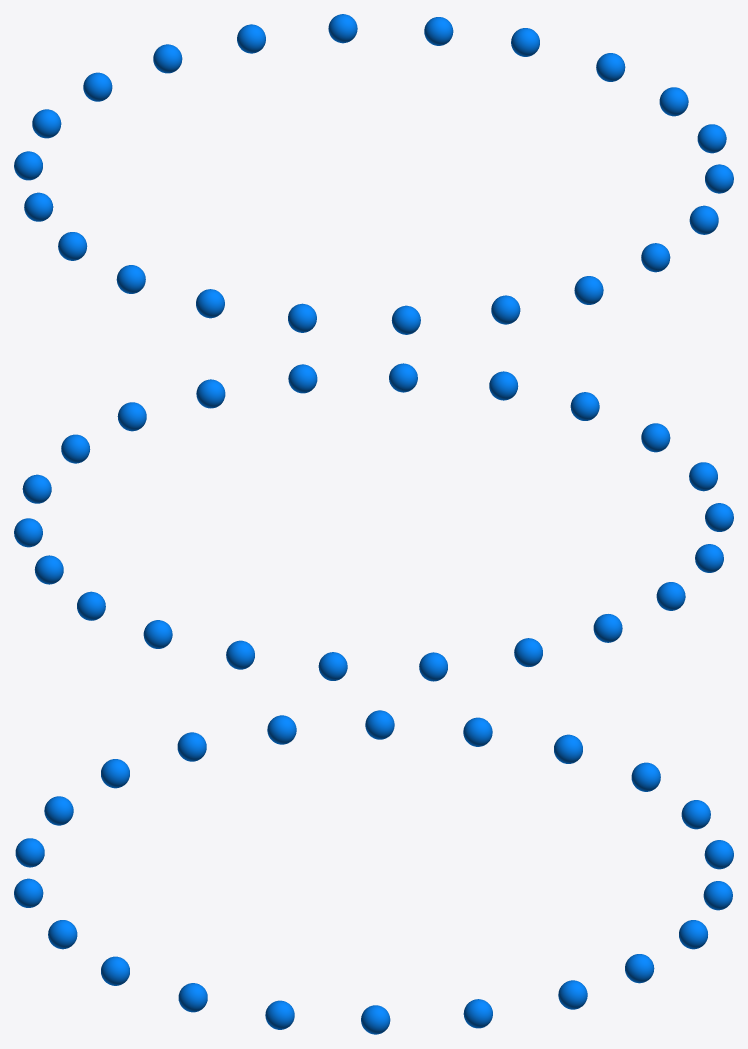
The picture shows the model from 3 angles, top to bottom: view 1: azimuth 30°, elevation 25°; view 2: azimuth 150°, elevation 25°; view 3: azimuth 270°, elevation 25°; orthographic projection.
Parts seen in each view (by area): view 1: Sphere052; view 2: Sphere052; view 3: Sphere052.
Part boxes in pixels (left/top/right/bottom): Sphere052: left=14, top=14, right=733, bottom=334; Sphere052: left=14, top=363, right=733, bottom=681; Sphere052: left=14, top=710, right=733, bottom=1034.
Bounding box in the file's own units: 203 × 8.22 × 201.
